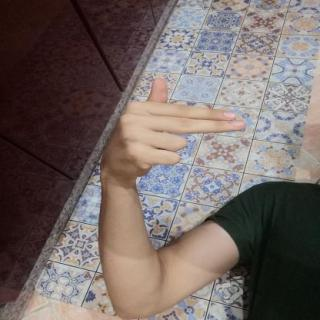GHAYN: (93, 72, 259, 182)
